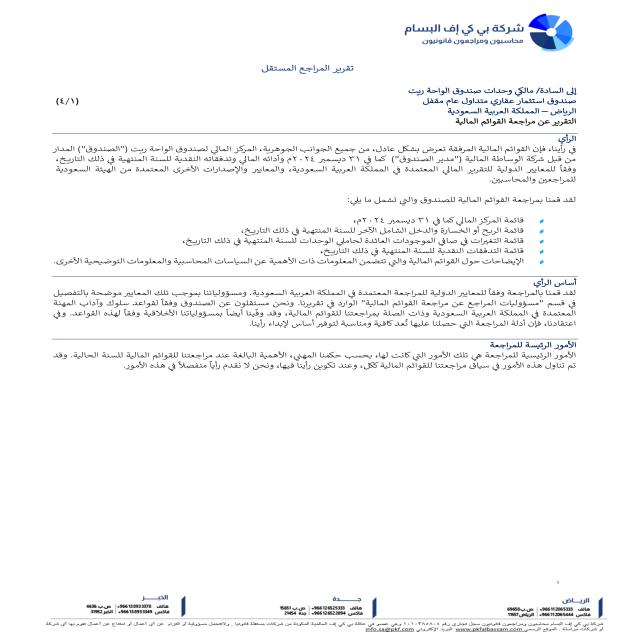auditor_report: (237, 59, 365, 81)
